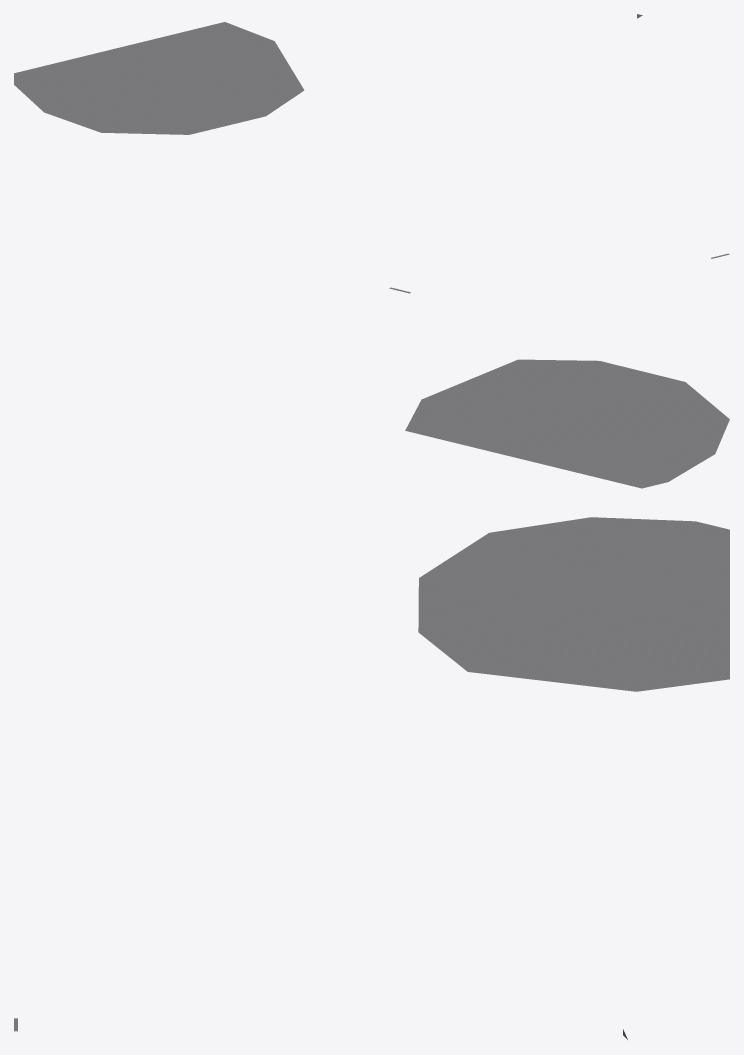
Rendered from kd_stage_1363c5_9_2_bounded.glb.
3 renders of one model, top to bottom at view 1: azimuth 30°, elevation 25°; view 2: azimuth 150°, elevation 25°; view 3: azimuth 270°, elevation 25°, orthographic. The views are drawn at different scales.
Visible parts, largest first — view 1: kd_stage_1363c5_9_2_bounded; view 2: kd_stage_1363c5_9_2_bounded; view 3: kd_stage_1363c5_9_2_bounded.
Boxes of the visible parts, left/top/right/bottom form: kd_stage_1363c5_9_2_bounded: left=14, top=14, right=729, bottom=258; kd_stage_1363c5_9_2_bounded: left=389, top=287, right=729, bottom=488; kd_stage_1363c5_9_2_bounded: left=14, top=517, right=729, bottom=1039.
Bounding box in the file's own units: 115 × 20.83 × 80.35.
1 material, 1 textured.
